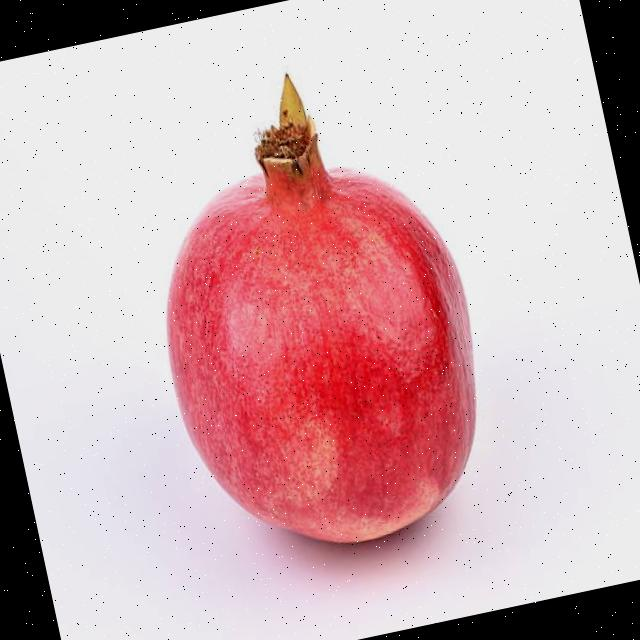Ripe: (109, 36, 516, 582)
